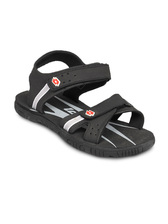shoes: (15, 49, 157, 160)
